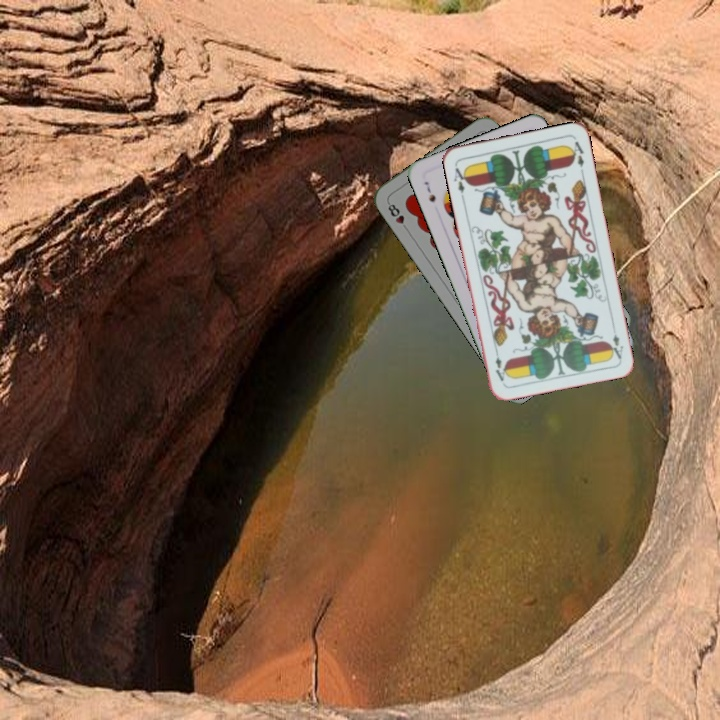EA: (606, 322, 626, 362), (450, 164, 471, 201)
H8: (384, 198, 411, 234)
S7: (420, 177, 438, 205)
